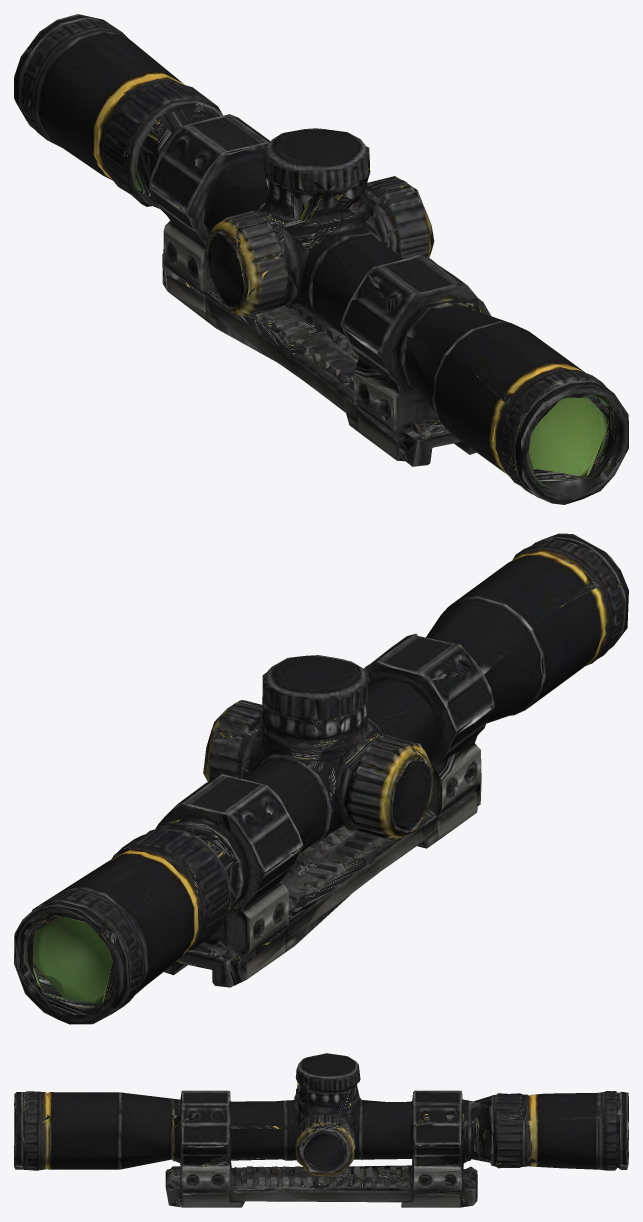
Rendered from scope_rifle.glb.
3 renders of one model, top to bottom at view 1: azimuth 30°, elevation 25°; view 2: azimuth 150°, elevation 25°; view 3: azimuth 270°, elevation 25°, orthographic. The views are drawn at different scales.
Visible parts, largest first — view 1: model, mesh_lod; view 2: model, mesh_lod; view 3: model, mesh_lod.
Part boxes in pixels (x1,y1,x2,y2): model: [14, 14, 628, 504]; mesh_lod: [21, 20, 625, 497]; model: [14, 533, 628, 1024]; mesh_lod: [17, 534, 628, 1015]; model: [14, 1053, 628, 1207]; mesh_lod: [14, 1070, 628, 1207].
Size of the model in its own units: 0.0686 by 0.0755 by 0.32.
1 material, 1 textured.
